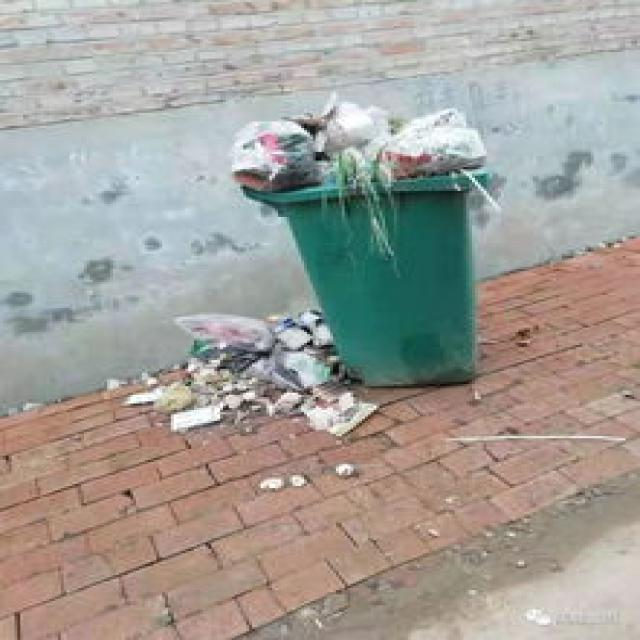garbage: (119, 306, 382, 438)
overflow: (229, 93, 507, 384)
